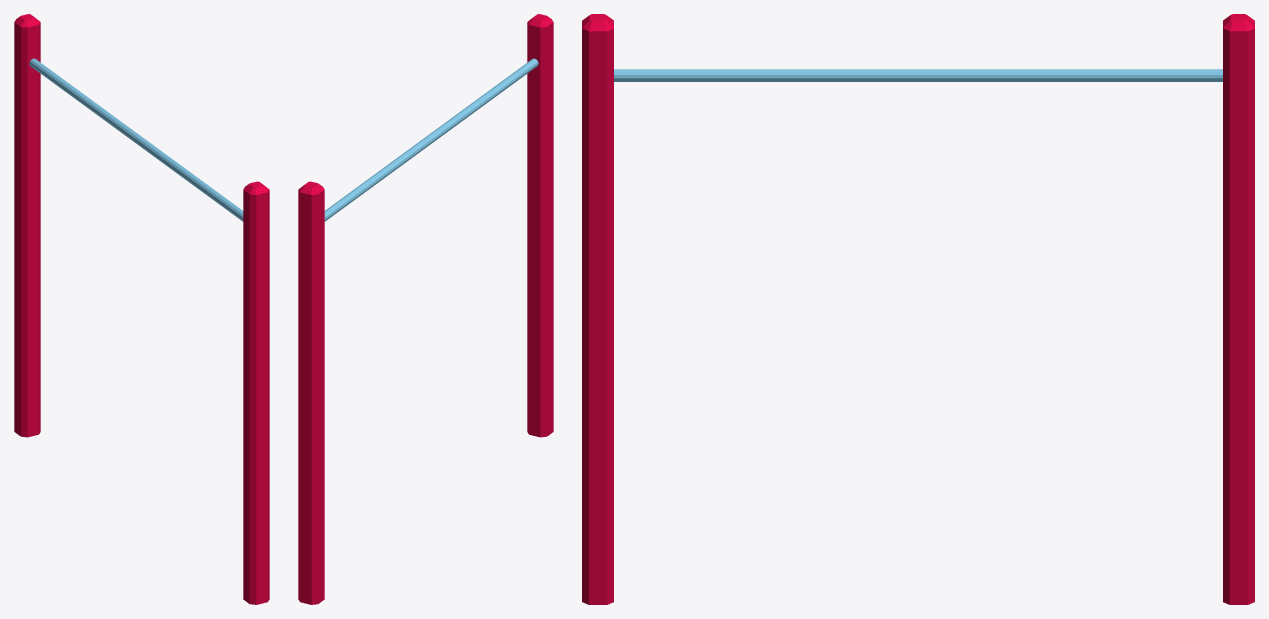
Rendered from Pull Up Bar 2.fbx.
3 renders of one model, left to right at view 1: azimuth 30°, elevation 25°; view 2: azimuth 150°, elevation 25°; view 3: azimuth 270°, elevation 25°, orthographic. The views are drawn at different scales.
Parts seen in each view (by area): view 1: Pull Up Bar 2; view 2: Pull Up Bar 2; view 3: Pull Up Bar 2.
Boxes of the visible parts, left/top/right/bottom form: Pull Up Bar 2: left=14, top=14, right=269, bottom=604; Pull Up Bar 2: left=298, top=14, right=553, bottom=604; Pull Up Bar 2: left=582, top=14, right=1254, bottom=604.
Bounding box in the file's own units: 10 × 200 × 210.
